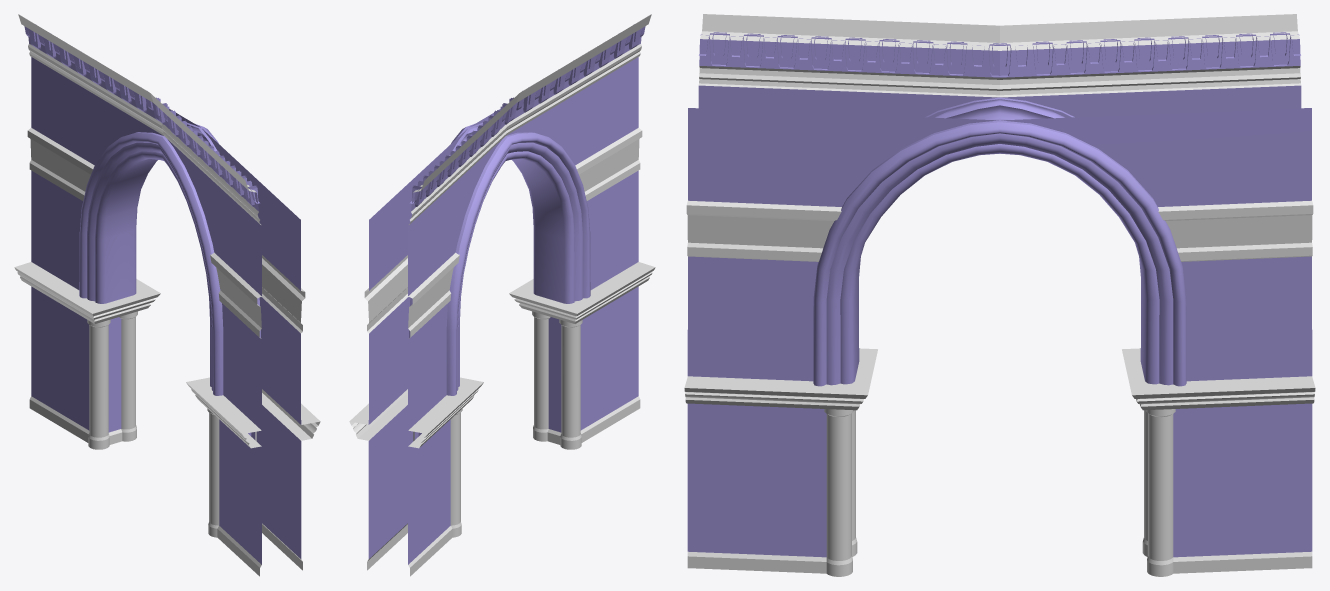
The model's file is Wall Arch.fbx.
The picture shows the model from 3 angles, left to right: view 1: azimuth 30°, elevation 25°; view 2: azimuth 150°, elevation 25°; view 3: azimuth 270°, elevation 25°; orthographic projection. The views are drawn at different scales.
Parts seen in each view (by area): view 1: Wall Arch_LOD0; view 2: Wall Arch_LOD0; view 3: Wall Arch_LOD0.
Part boxes in pixels (box(x1,y1,x2,y2)): Wall Arch_LOD0: box(14, 14, 320, 576); Wall Arch_LOD0: box(349, 14, 655, 576); Wall Arch_LOD0: box(684, 14, 1315, 576).
Size of what is drawn, in the model's own units: 184 by 844 by 926.
